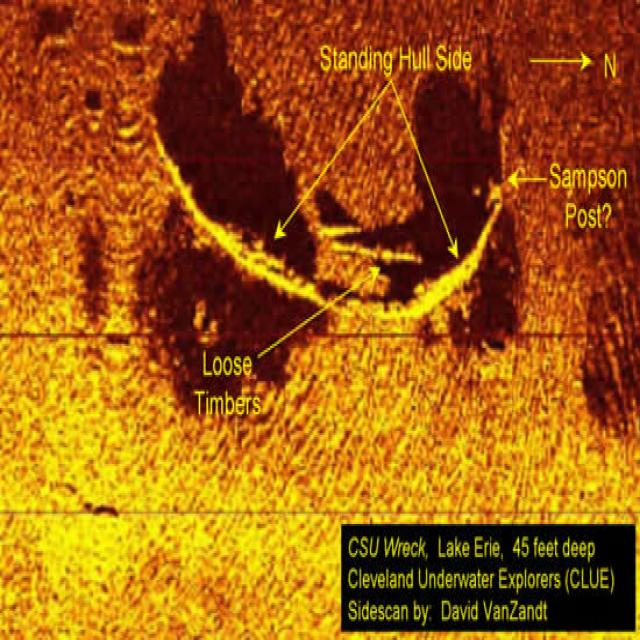ship: (142, 101, 507, 338)
